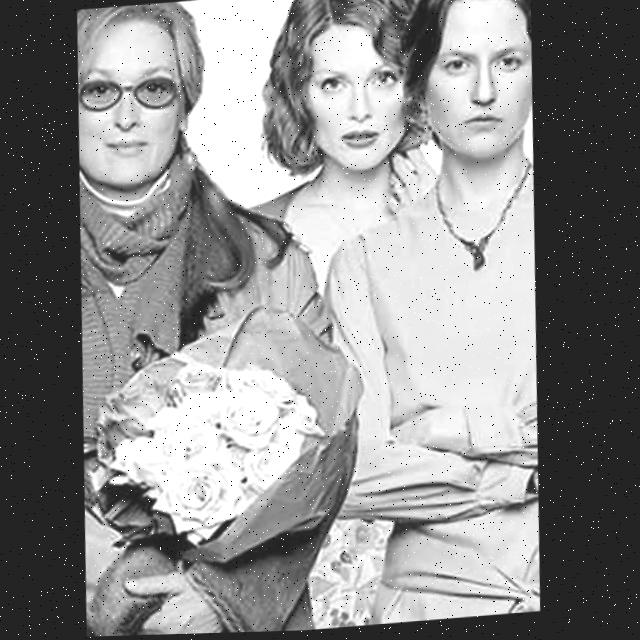face: (79, 1, 191, 210), (420, 0, 533, 201), (288, 16, 406, 170)
